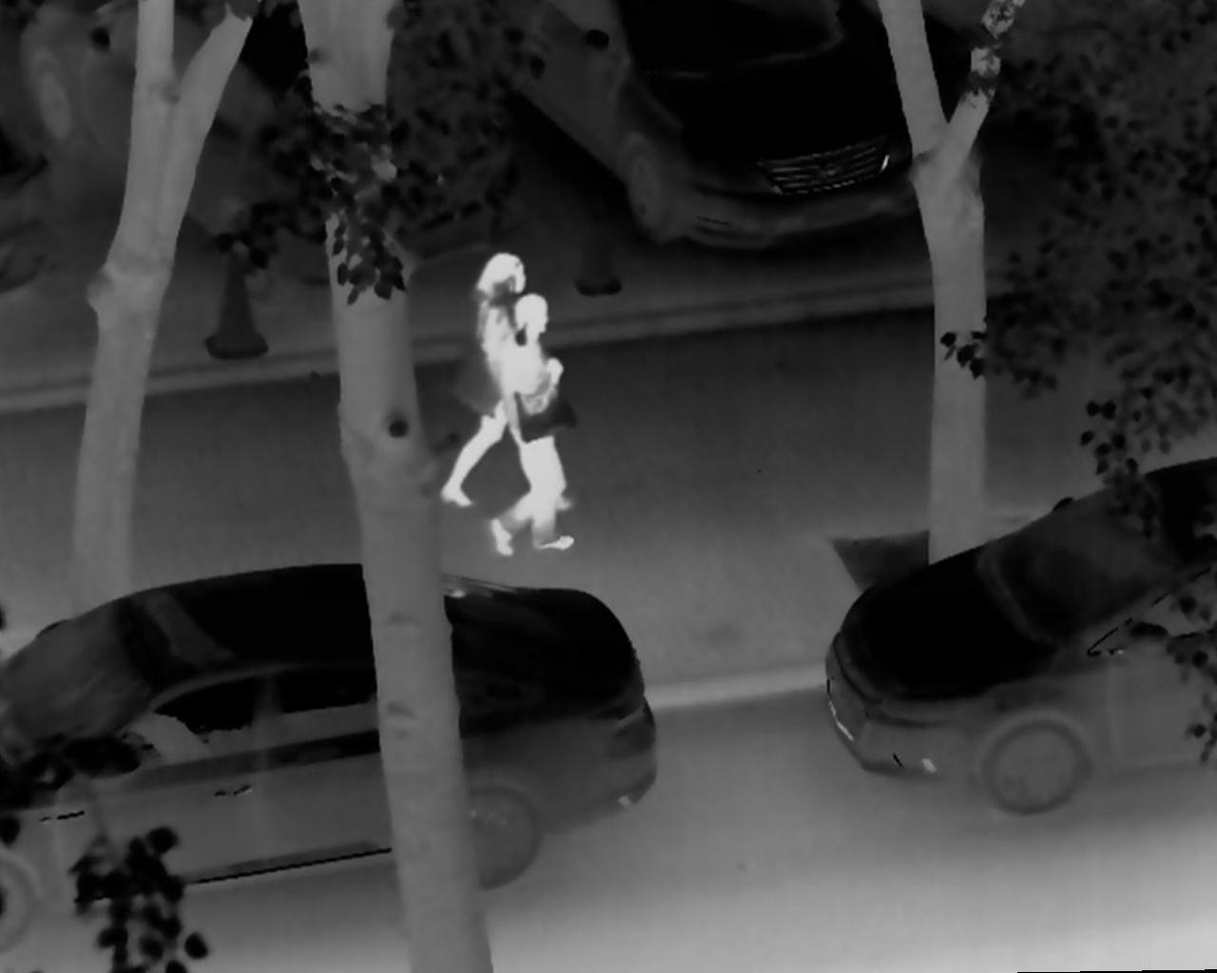person: (439, 238, 574, 515), (483, 293, 578, 562)
